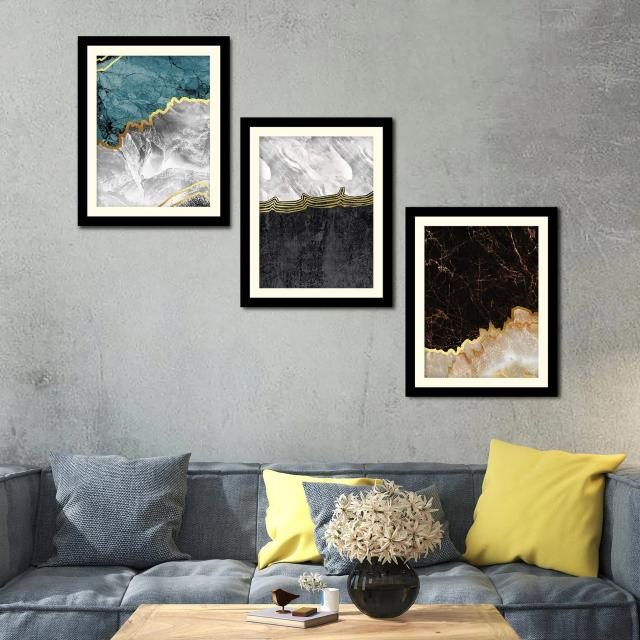painting: (404, 206, 557, 400), (240, 118, 393, 312), (77, 35, 230, 228)
